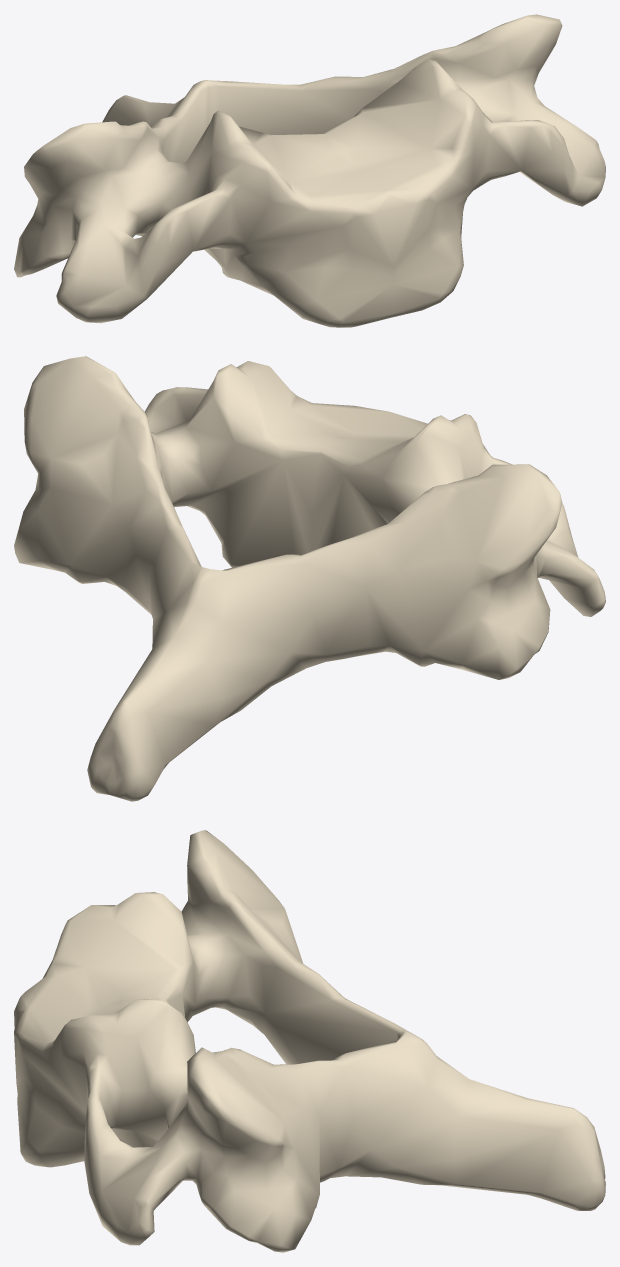
File: vertebra-c4.glb
3 renders of one model, top to bottom at view 1: azimuth 30°, elevation 25°; view 2: azimuth 150°, elevation 25°; view 3: azimuth 270°, elevation 25°, orthographic. The views are drawn at different scales.
Parts seen in each view (by area): view 1: Vertebra C4; view 2: Vertebra C4; view 3: Vertebra C4.
Part boxes in pixels (<box>): Vertebra C4: <box>14,14,605,327</box>; Vertebra C4: <box>14,356,605,801</box>; Vertebra C4: <box>14,830,605,1252</box>.
Size of the model in its own units: 0.058 by 0.025 by 0.0524.
